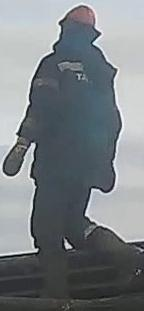gloves: (1, 135, 32, 177)
helmet: (58, 4, 96, 29)
vest: (34, 50, 119, 193)
